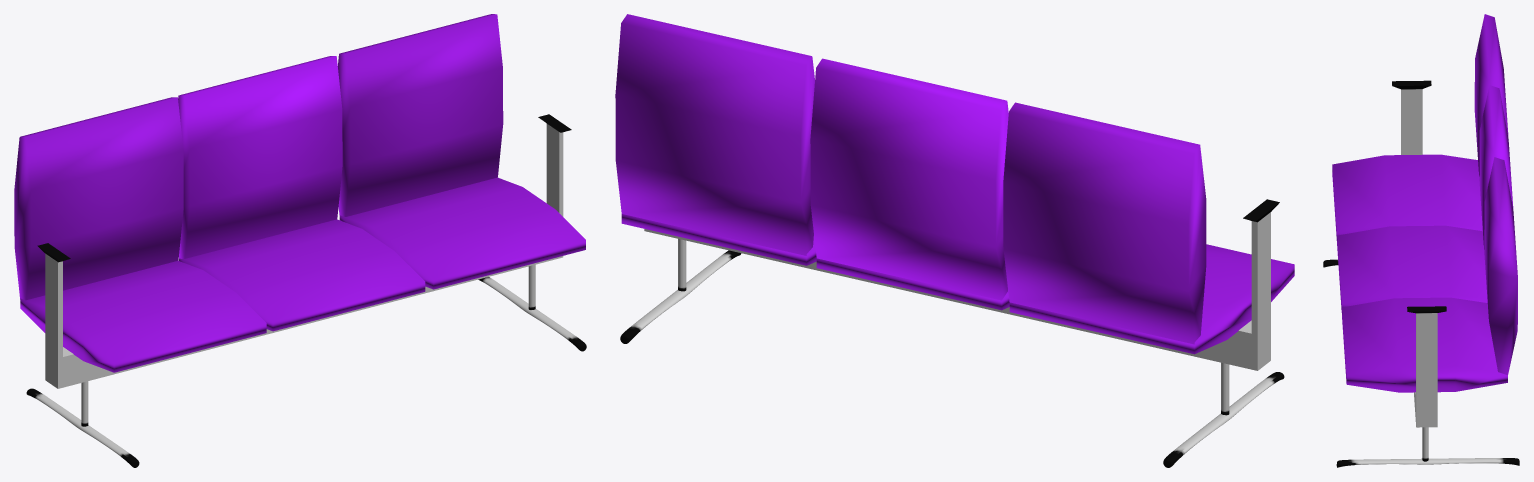
File: ClinicWaitingSeats.fbx
3 views of the same model, side by side, from view 1: azimuth 30°, elevation 25°; view 2: azimuth 150°, elevation 25°; view 3: azimuth 270°, elevation 25° (orthographic). The views are drawn at different scales.
Parts seen in each view (by area): view 1: MiddleSeat; view 2: MiddleSeat; view 3: MiddleSeat.
Part boxes in pixels (x1,y1,x2,y2): MiddleSeat: (14,14,586,467); MiddleSeat: (615,14,1294,467); MiddleSeat: (1323,14,1519,467).
Bounding box in the file's own units: 224 × 111 × 80.93.
Materials: 1 (1 with a texture image).
